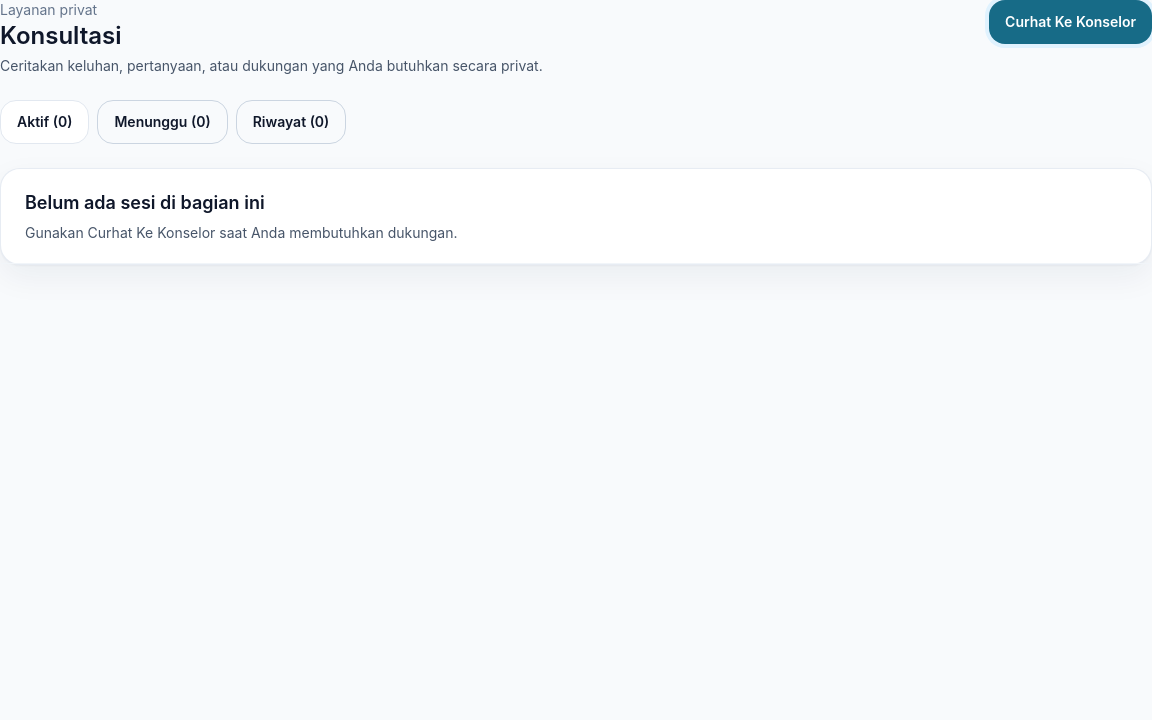
Test: modal closes with Escape and returns focus to opening button
The width and height of the screenshot is (1152, 720).
Click the button "Curhat Ke Konselor" at x=1071, y=22, box x1=989 y1=0 x2=1151 y2=44
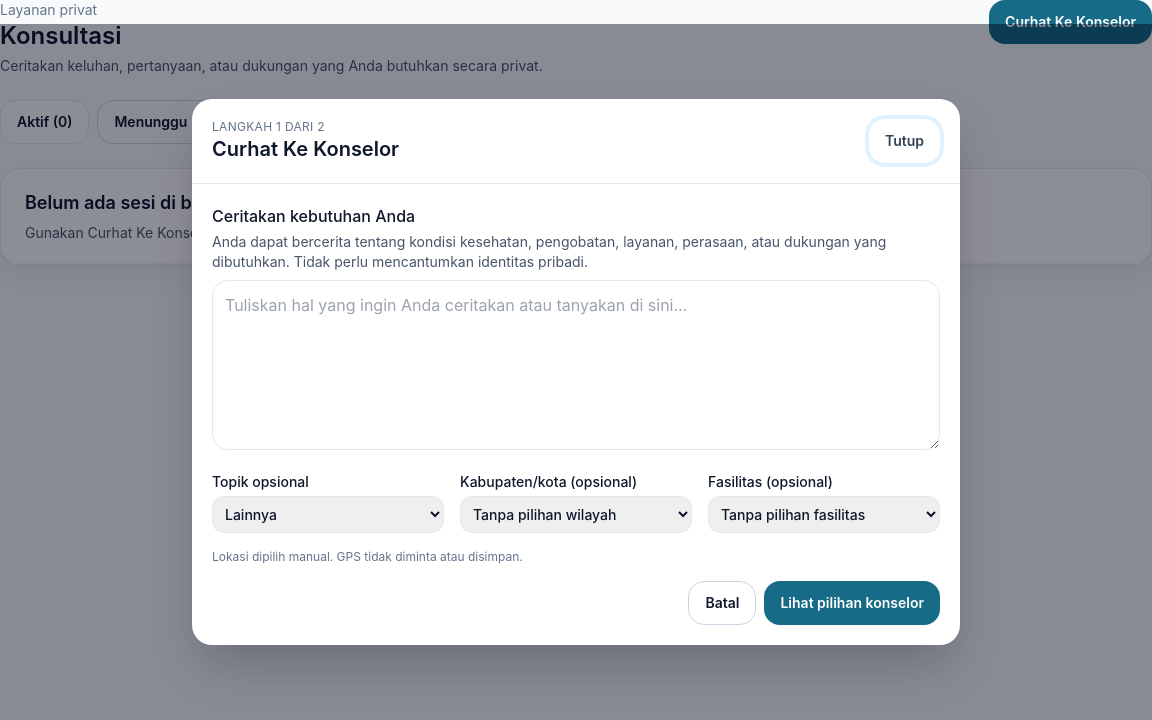
Press Escape
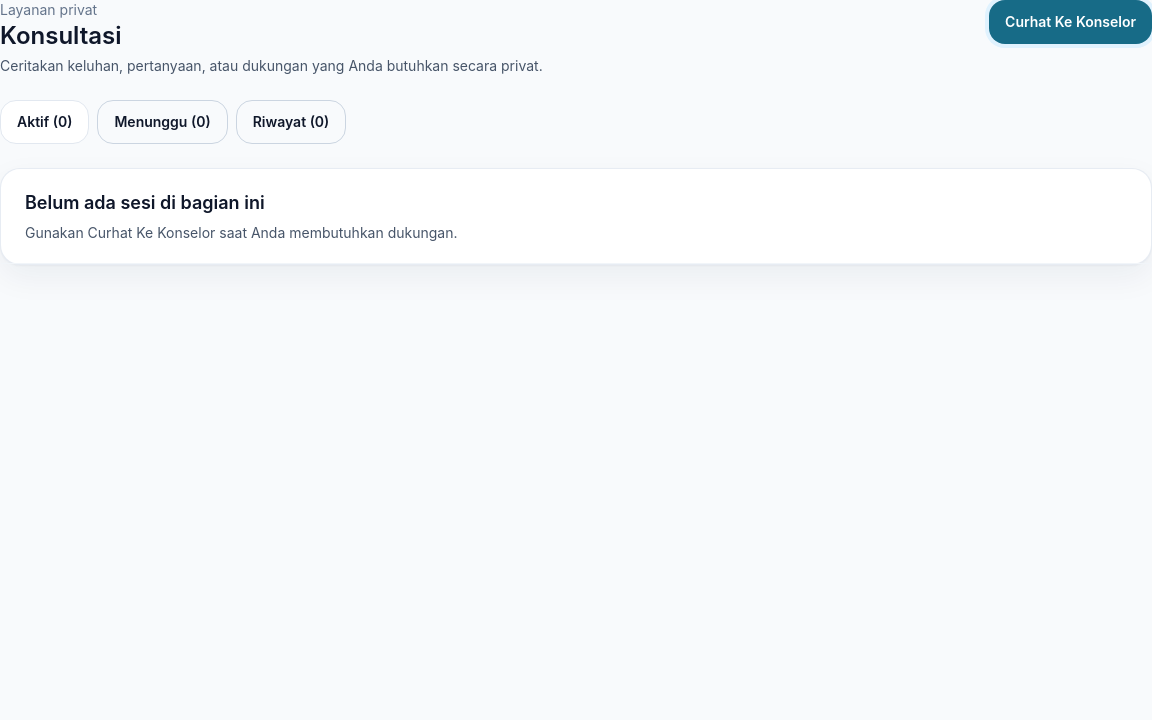
Expected: the dialog is gone
